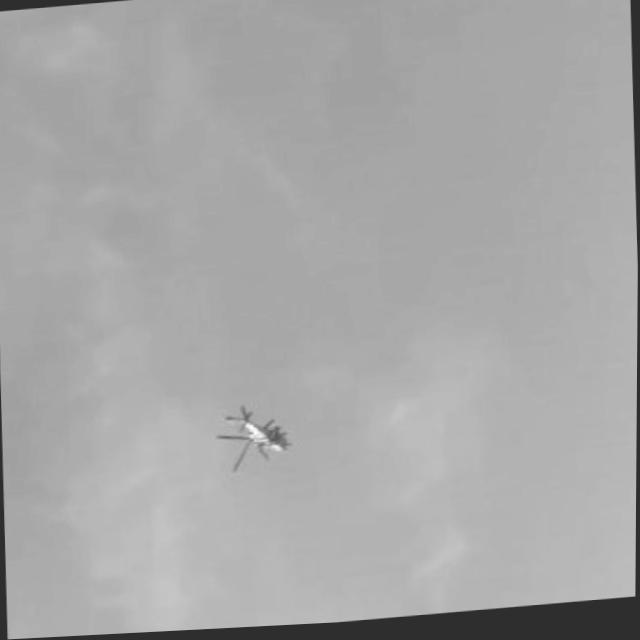helikopter: (209, 397, 300, 479)
